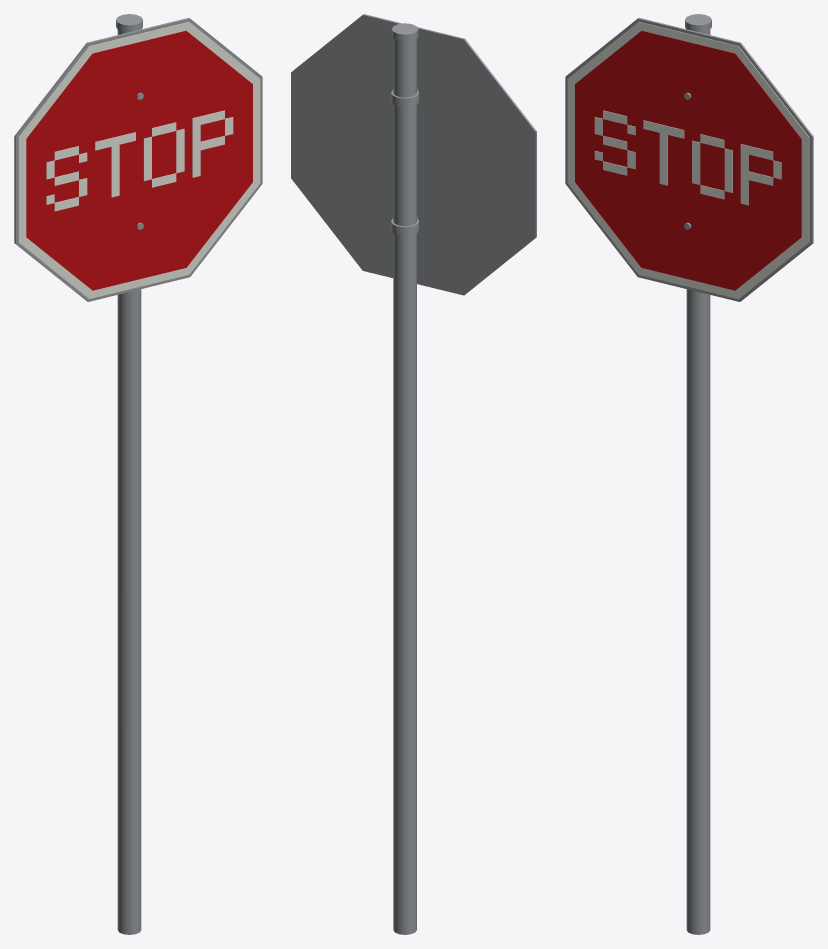
The model's file is sign_stop.glb.
3 renders of one model, left to right at view 1: azimuth 30°, elevation 25°; view 2: azimuth 150°, elevation 25°; view 3: azimuth 330°, elevation 25°, orthographic.
Parts seen in each view (by area): view 1: Plate, Pole; view 2: Plate, Pole; view 3: Plate, Pole.
Part boxes in pixels (box(x1,y1,x2,y2)): Plate: box(14, 18, 262, 301); Pole: box(116, 14, 142, 934); Plate: box(291, 14, 536, 295); Pole: box(391, 23, 419, 934); Plate: box(565, 18, 813, 301); Pole: box(685, 14, 711, 934).
Size of the model in its own units: 0.716 by 2.52 by 0.093.
